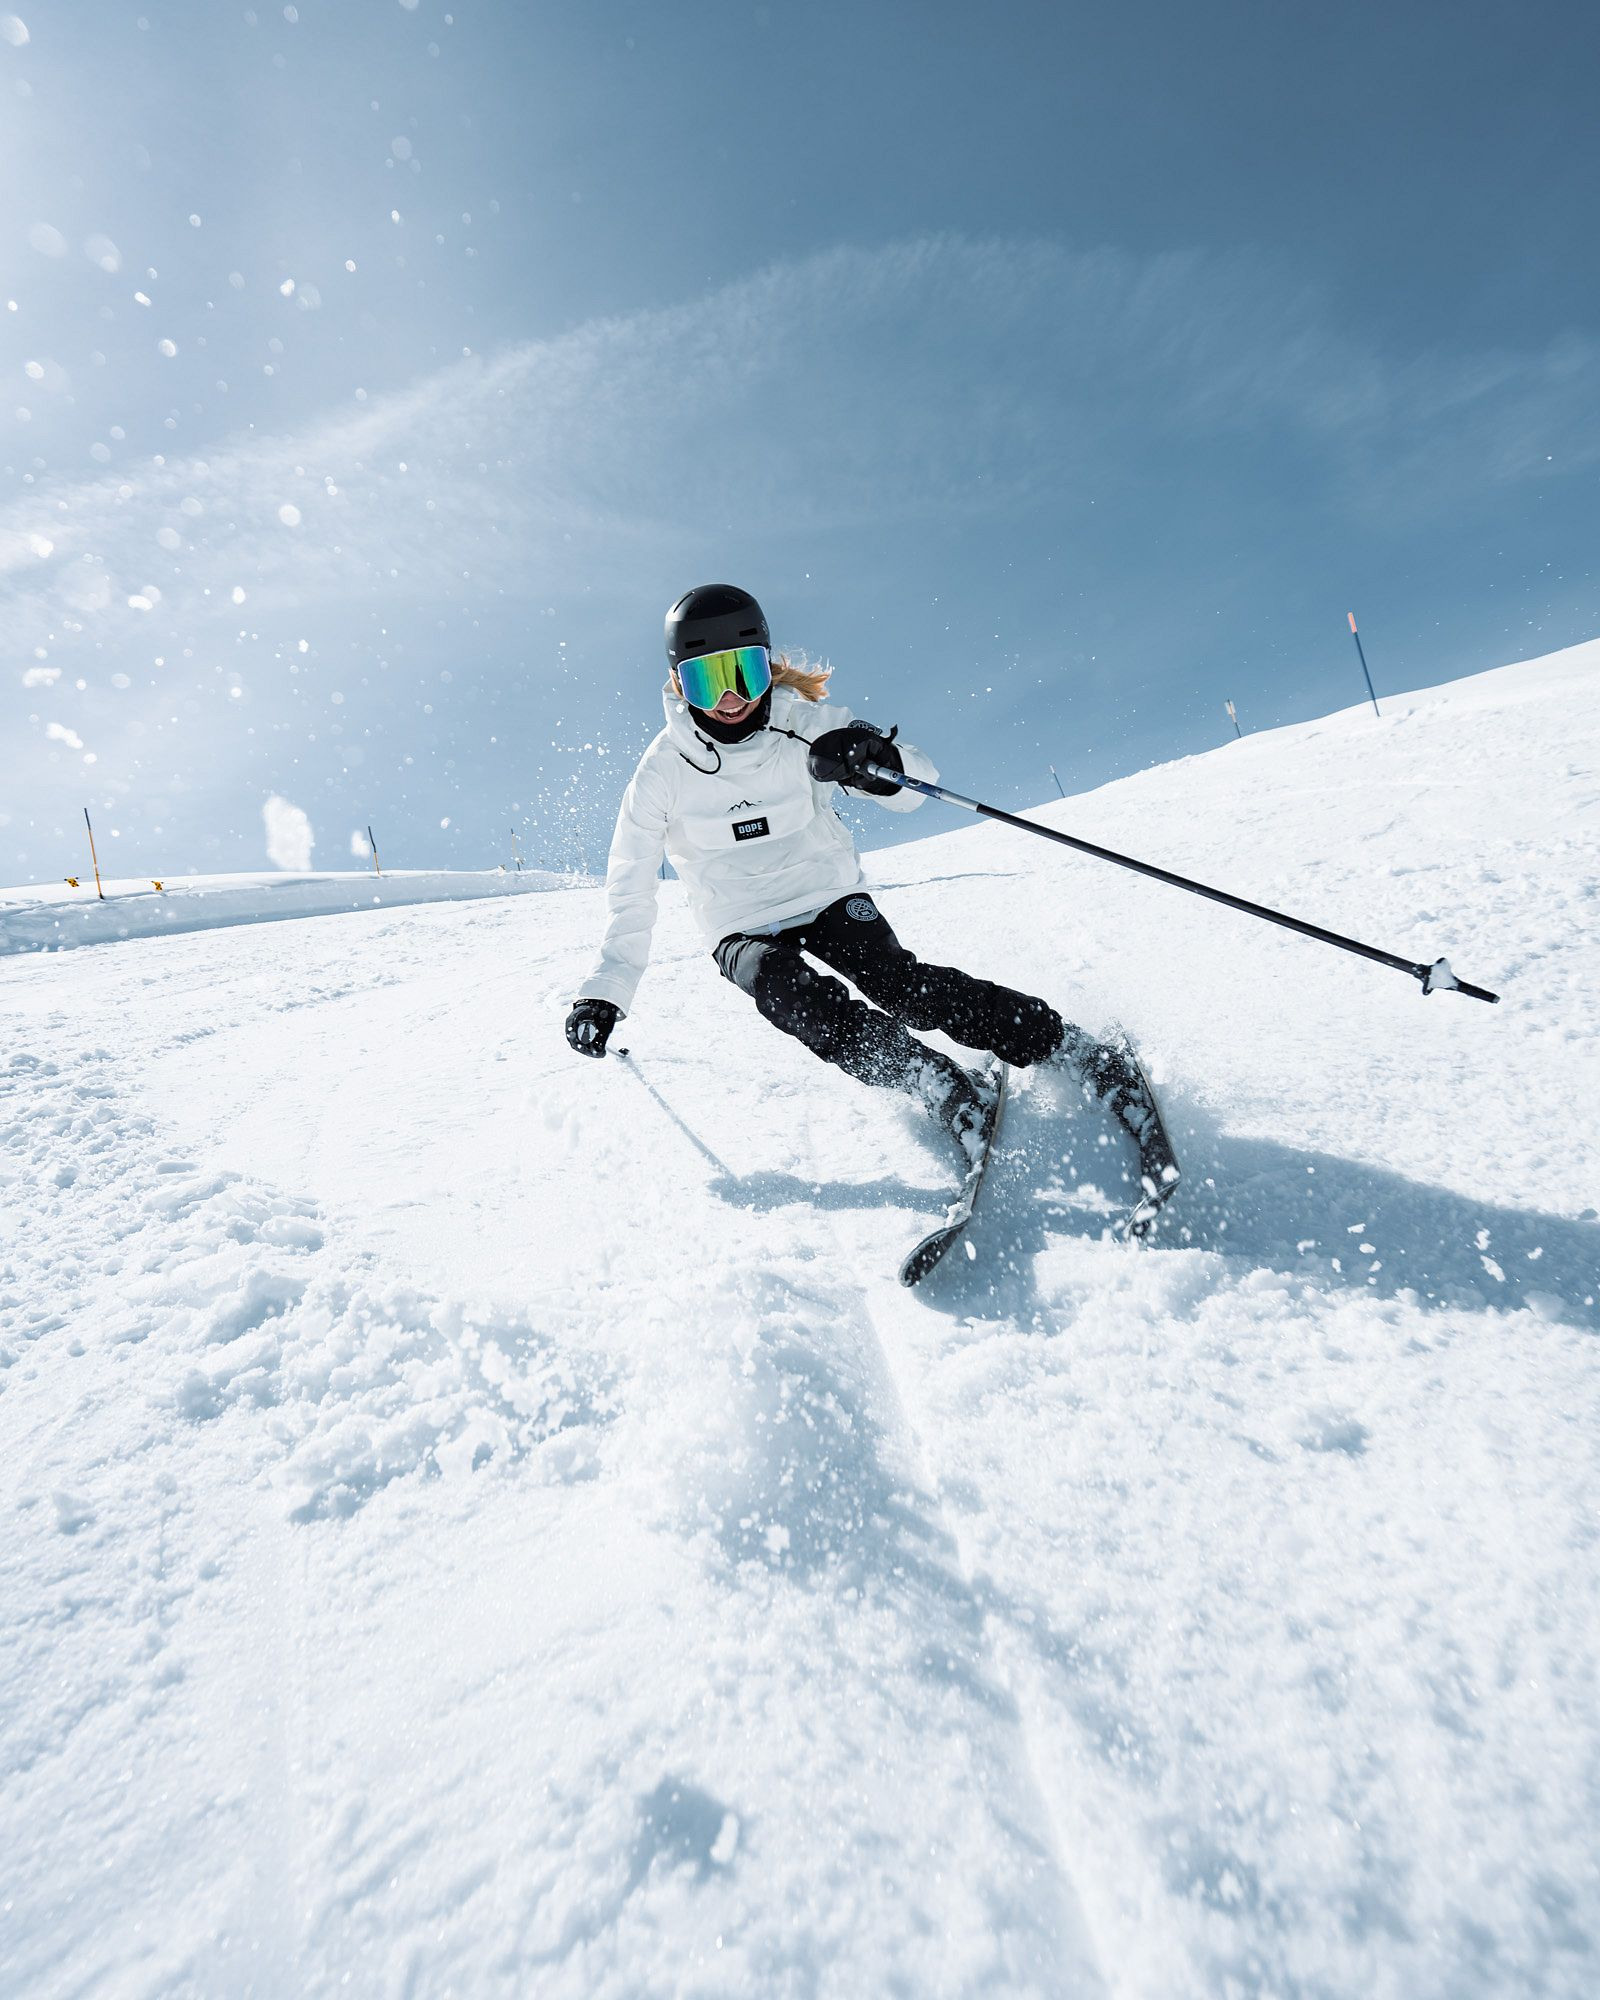skier: (565, 583, 1504, 1285)
